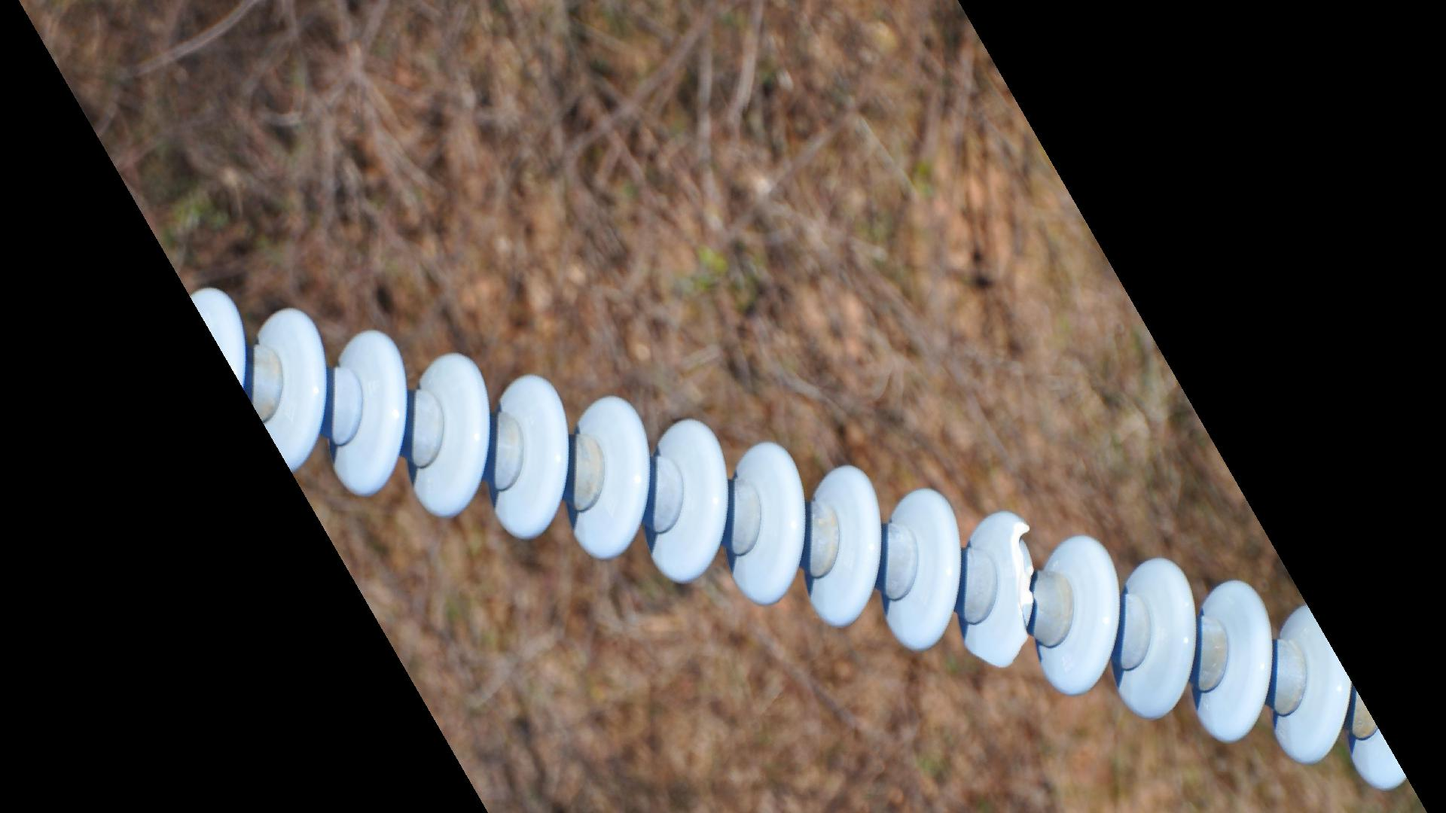insulator: (183, 279, 1419, 797)
insulator_breakage: (1011, 511, 1045, 654)
